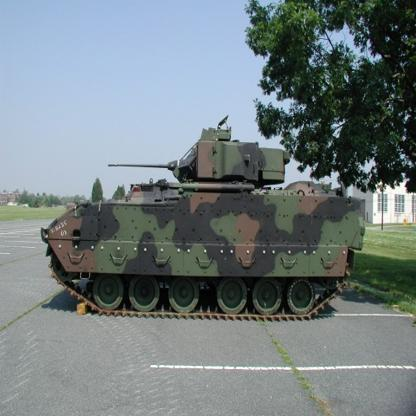Tank: (39, 126, 368, 326)
